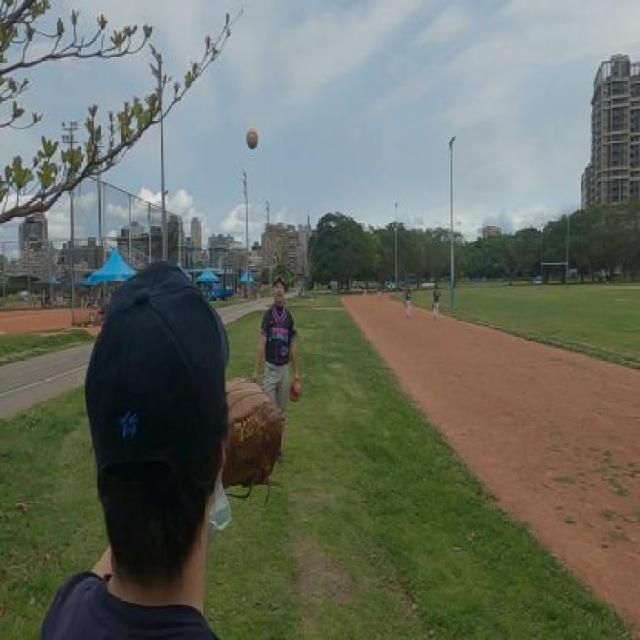baseball: (246, 127, 259, 150)
